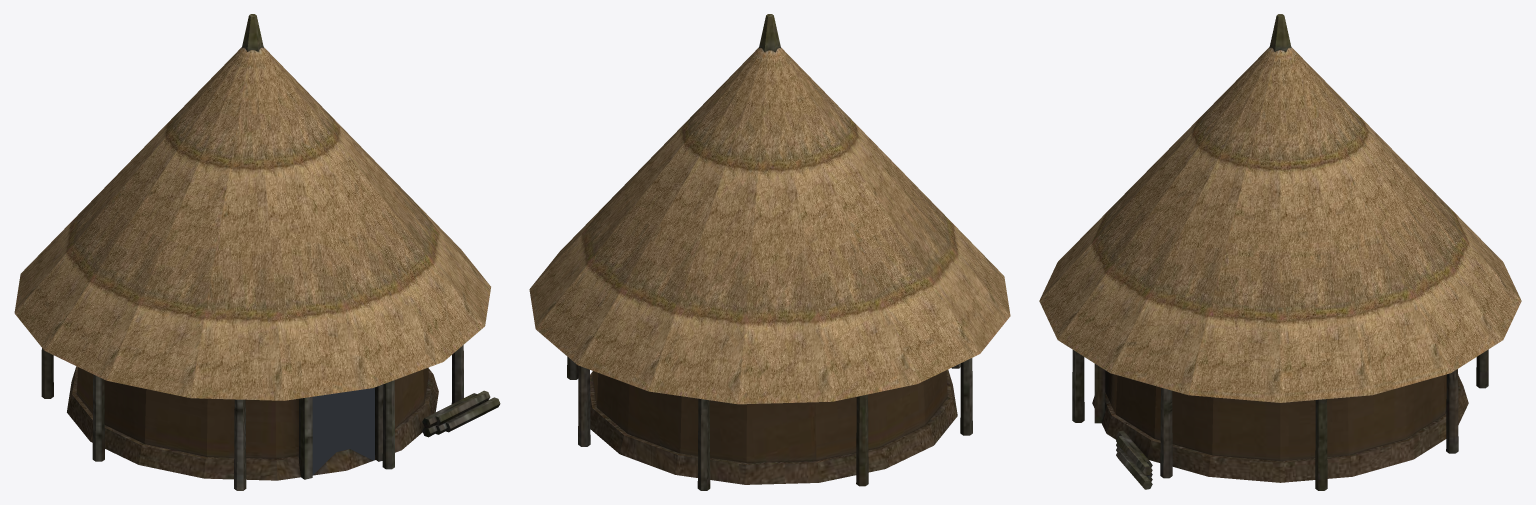
The model's file is hut_tribal.glb.
The picture shows the model from 3 angles, left to right: view 1: azimuth 30°, elevation 25°; view 2: azimuth 150°, elevation 25°; view 3: azimuth 270°, elevation 25°; orthographic projection.
Visible parts, largest first — view 1: hut_tribal; view 2: hut_tribal; view 3: hut_tribal.
Boxes of the visible parts, x1,y1,x2,y2 form: hut_tribal: [14, 14, 500, 490]; hut_tribal: [529, 14, 1010, 490]; hut_tribal: [1039, 14, 1521, 490].
Size of the model in its own units: 6.2 by 5.5 by 6.2.
Materials: 2 (1 with a texture image).
